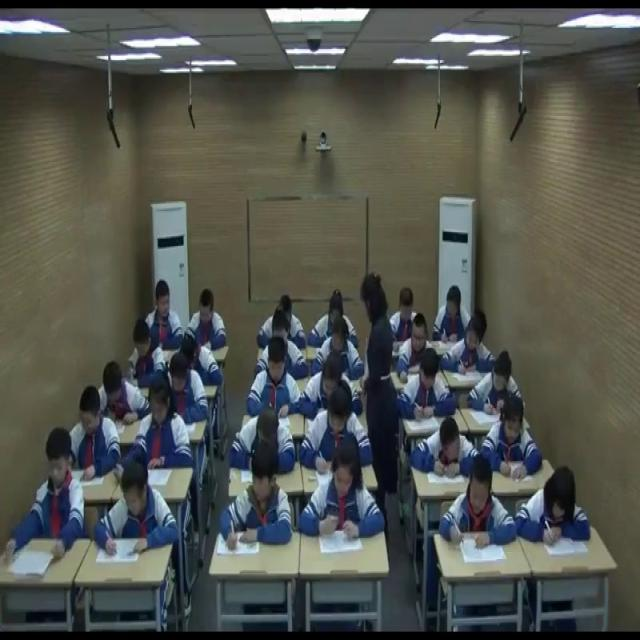distracted: (146, 279, 184, 352)
focused: (9, 424, 83, 561), (93, 458, 181, 564), (302, 437, 386, 540), (220, 442, 291, 559), (114, 375, 195, 476), (439, 460, 516, 558), (301, 388, 375, 472), (520, 468, 591, 548), (482, 396, 544, 482), (68, 384, 120, 479), (228, 409, 299, 474), (249, 339, 303, 420), (399, 351, 456, 427), (410, 417, 479, 477), (469, 351, 527, 421), (297, 361, 363, 420), (310, 318, 364, 380), (256, 290, 308, 354), (258, 307, 304, 378), (446, 316, 502, 374), (160, 356, 210, 419), (99, 361, 148, 425), (188, 284, 228, 349), (129, 322, 166, 390), (179, 335, 222, 393), (399, 309, 437, 373), (313, 294, 358, 348), (436, 285, 475, 344), (388, 288, 424, 345)
